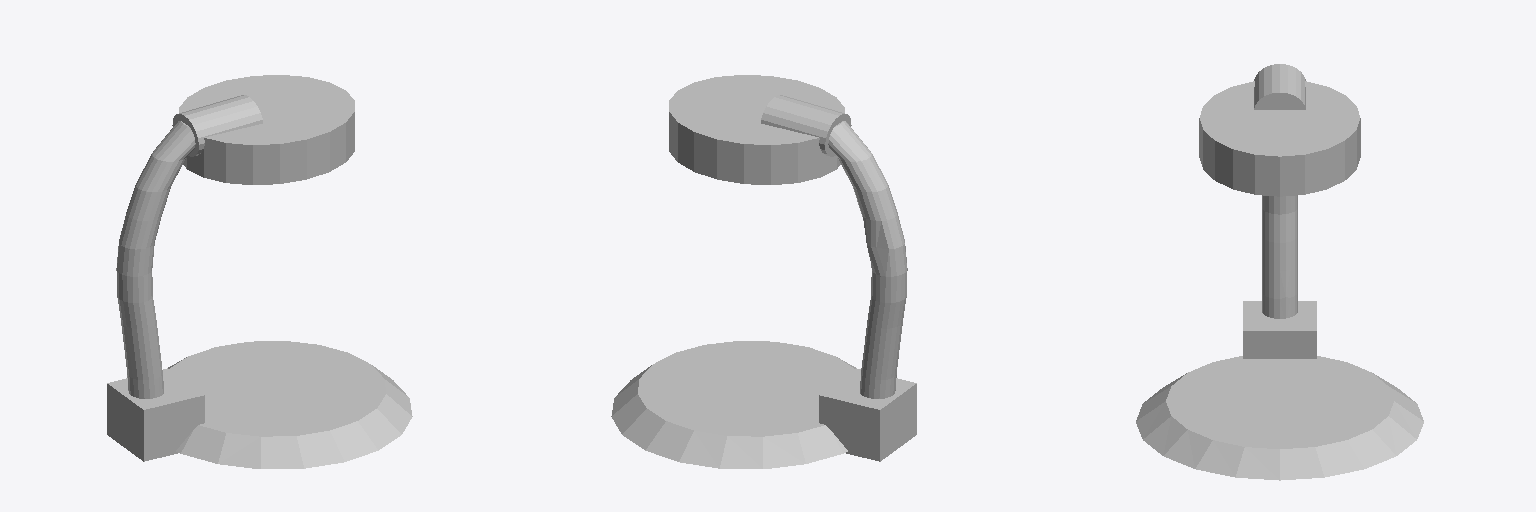
Rendered from Teleporter_OBJ.obj.
The picture shows the model from 3 angles: view 1: azimuth 30°, elevation 25°; view 2: azimuth 150°, elevation 25°; view 3: azimuth 270°, elevation 25°; orthographic projection.
Parts seen in each view (by area): view 1: Teleporter1; view 2: Teleporter1; view 3: Teleporter1.
Part boxes in pixels (x1,y1,x2,y2): Teleporter1: (107, 75, 412, 468); Teleporter1: (611, 75, 916, 468); Teleporter1: (1136, 64, 1423, 480).
Bounding box in the file's own units: 2.78 × 3.1 × 2.53.